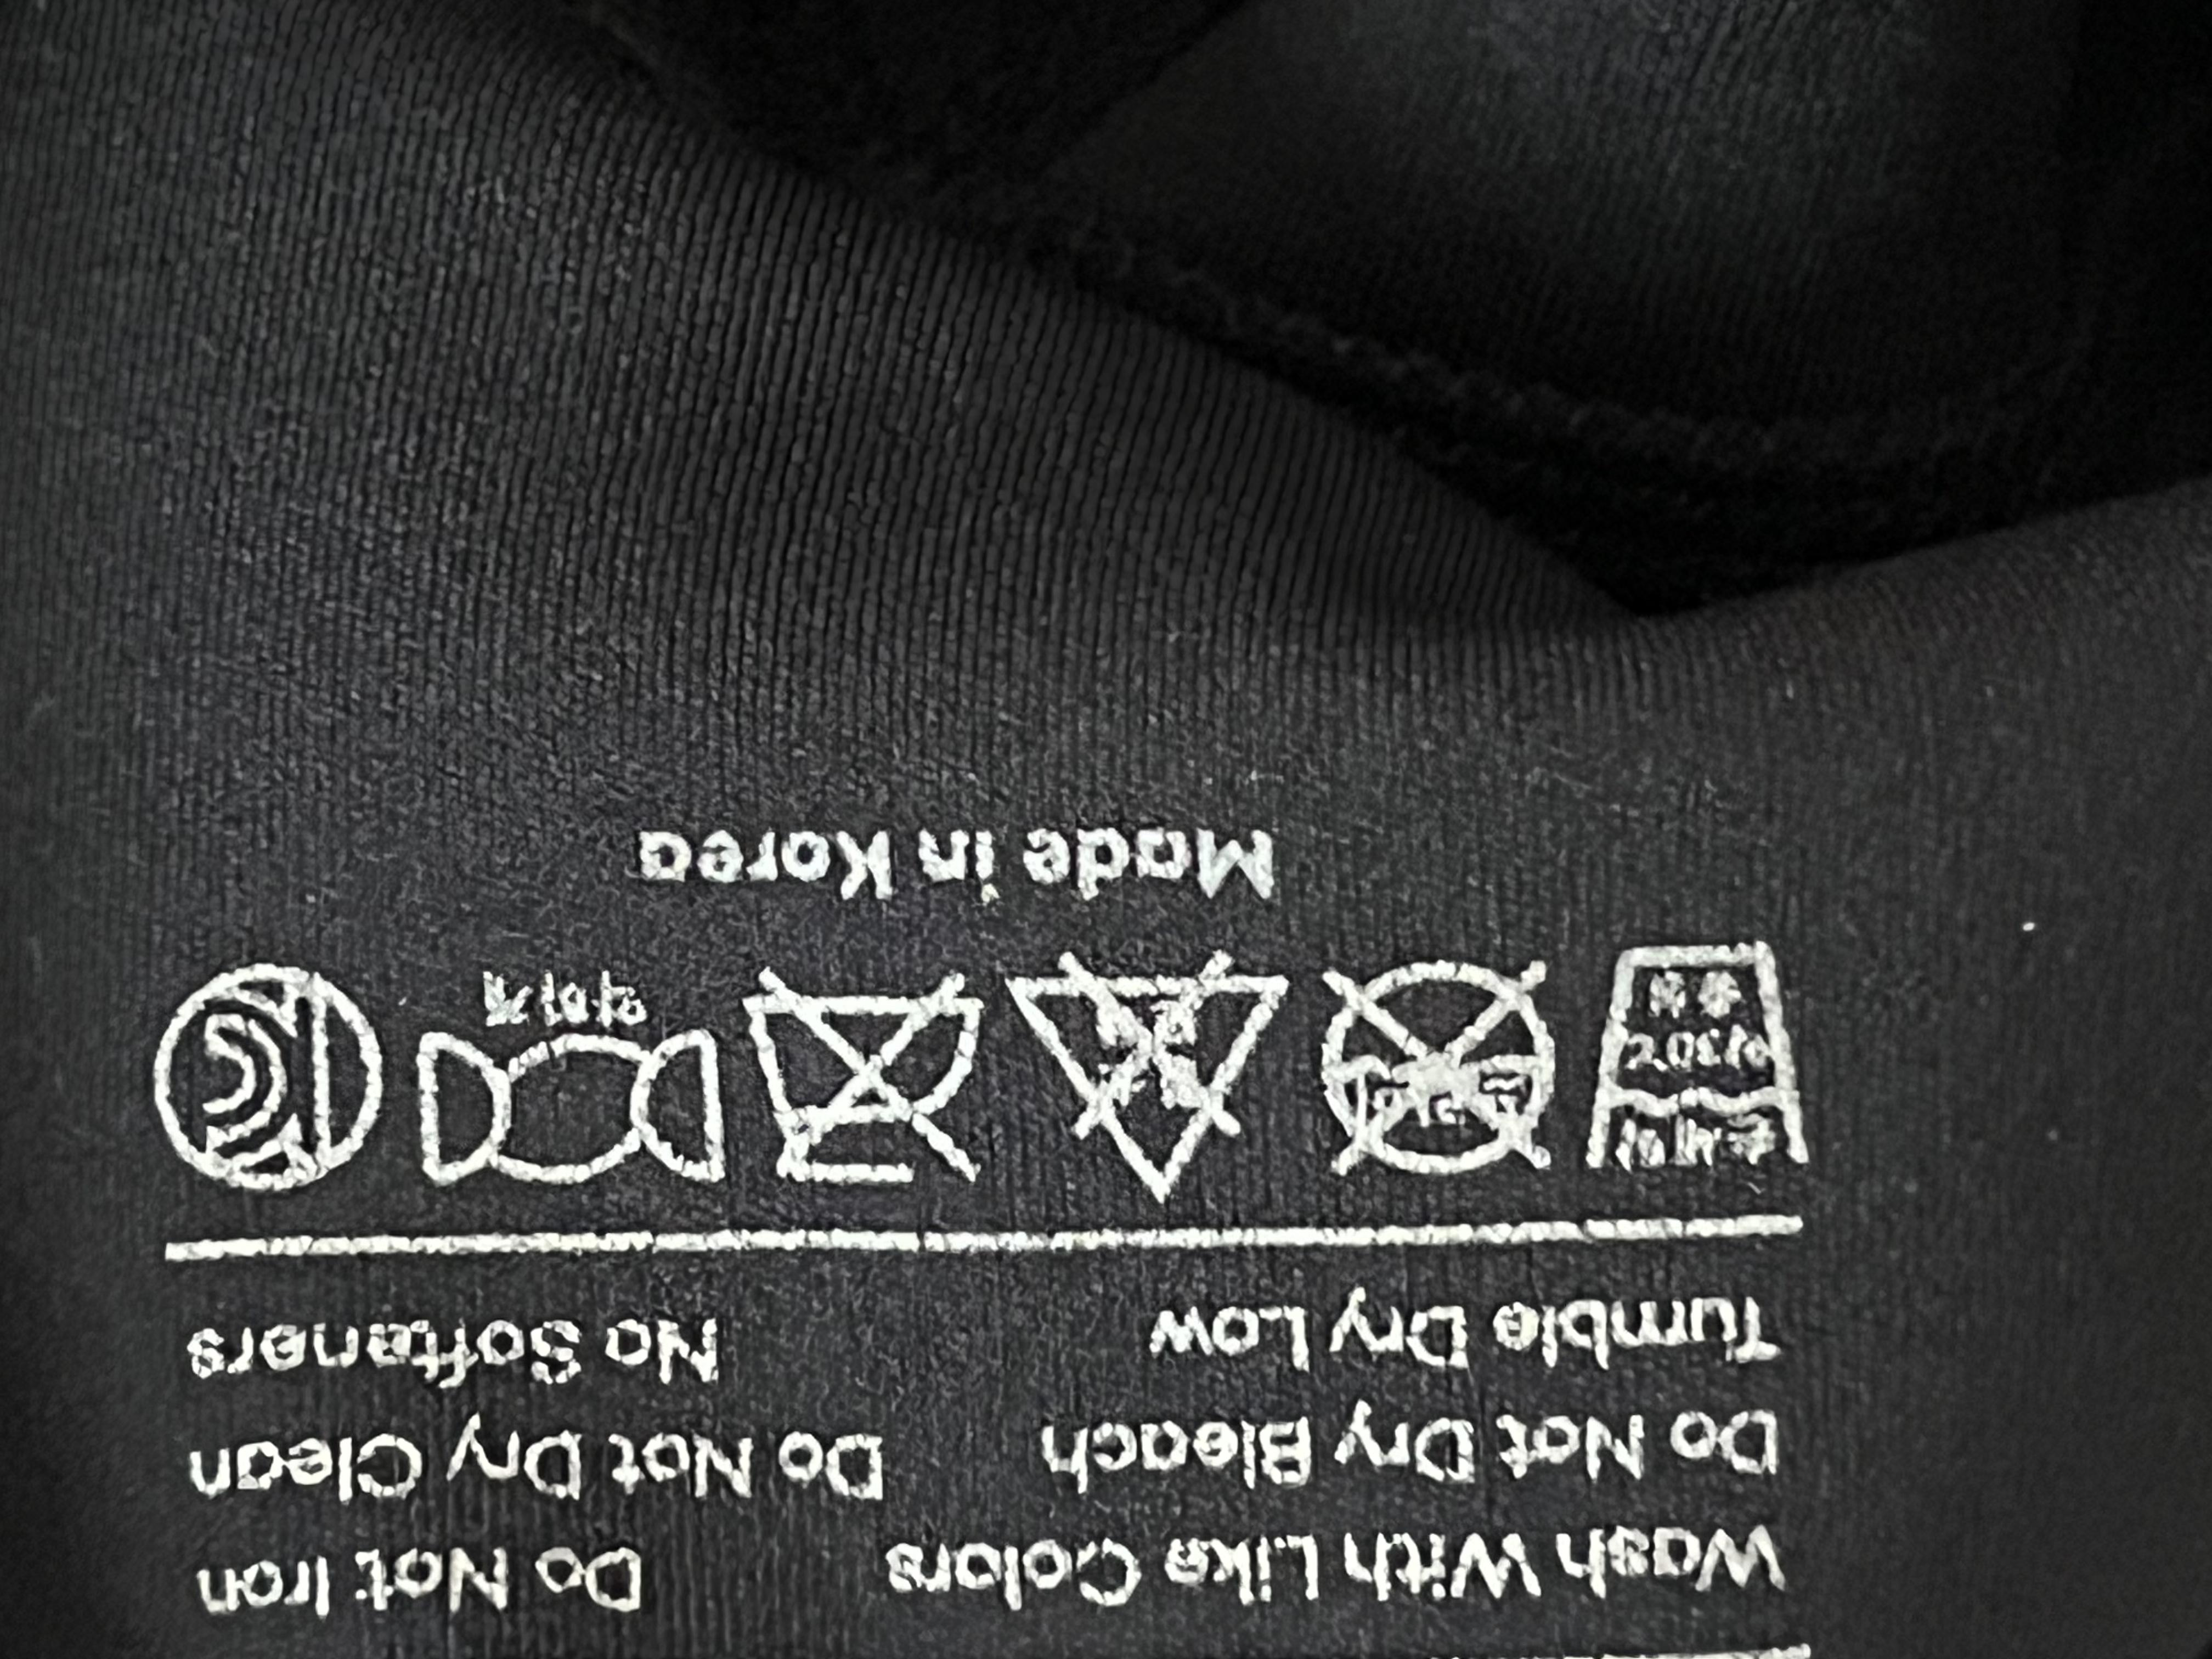DN_dry_clean: (1305, 953, 1566, 1185)
DN_iron: (744, 962, 996, 1194)
hand_wash: (1575, 925, 1829, 1185)
non_chlorine_bleach: (1001, 941, 1289, 1220)
wring: (397, 955, 723, 1194)
